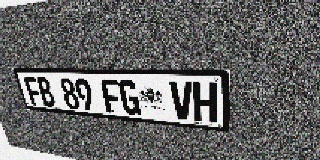8: (59, 78, 81, 110)
9: (73, 78, 96, 111)
B: (35, 77, 57, 107)
F: (100, 79, 123, 114), (23, 77, 44, 106)
G: (118, 80, 141, 116)
H: (193, 82, 217, 123)
V: (169, 81, 194, 121)
